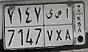1: (17, 7, 24, 47)
4: (24, 8, 34, 45)
7: (6, 8, 16, 47), (34, 5, 43, 45)
A: (65, 8, 72, 42)
V: (45, 7, 54, 42)
X: (54, 9, 64, 41)
